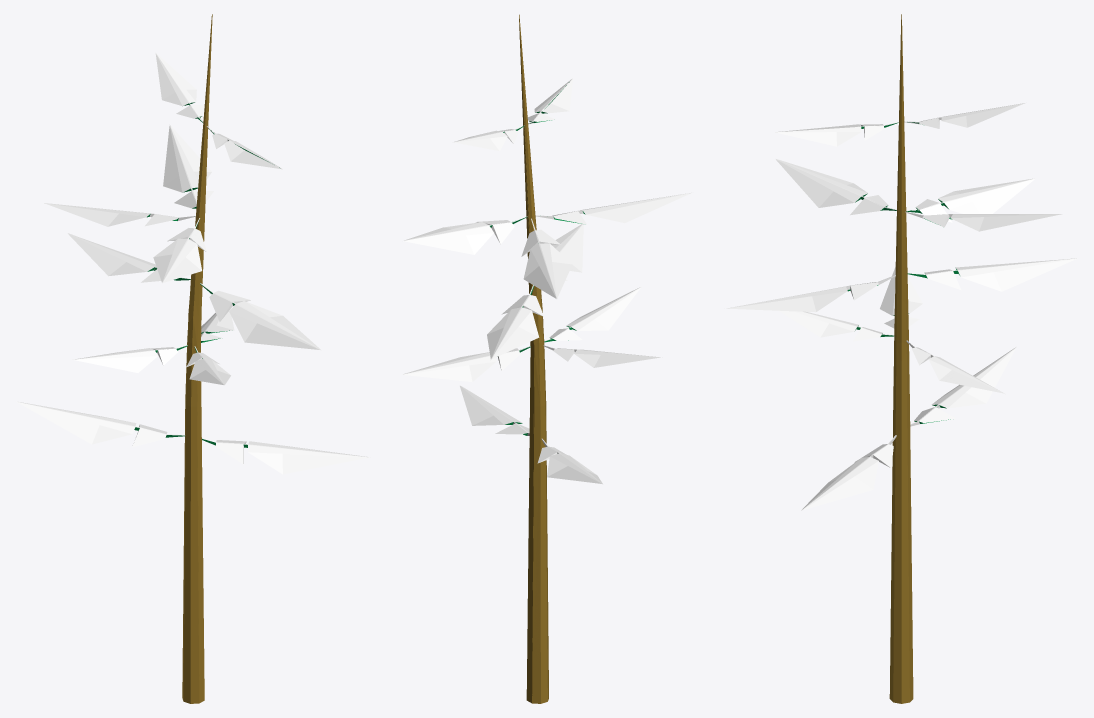
Rendered from V2_Fir_1_Snowy.fbx.
3 renders of one model, left to right at view 1: azimuth 30°, elevation 25°; view 2: azimuth 150°, elevation 25°; view 3: azimuth 270°, elevation 25°, orthographic. The views are drawn at different scales.
Visible parts, largest first — view 1: V2 Fir 1_LOD0_Snowy, V2 Fir 1_LOD3_Snowy, V2 Fir 1_LOD2_Snowy, V2 Fir 1_LOD1_Snowy; view 2: V2 Fir 1_LOD0_Snowy, V2 Fir 1_LOD3_Snowy, V2 Fir 1_LOD2_Snowy, V2 Fir 1_LOD1_Snowy; view 3: V2 Fir 1_LOD0_Snowy, V2 Fir 1_LOD2_Snowy, V2 Fir 1_LOD3_Snowy, V2 Fir 1_LOD1_Snowy.
Boxes of the visible parts, x1=… form: V2 Fir 1_LOD0_Snowy: x1=17, y1=14, x2=368, y2=703; V2 Fir 1_LOD3_Snowy: x1=16, y1=52, x2=370, y2=457; V2 Fir 1_LOD2_Snowy: x1=140, y1=102, x2=247, y2=703; V2 Fir 1_LOD1_Snowy: x1=150, y1=16, x2=277, y2=703; V2 Fir 1_LOD0_Snowy: x1=402, y1=14, x2=691, y2=703; V2 Fir 1_LOD3_Snowy: x1=402, y1=79, x2=690, y2=484; V2 Fir 1_LOD2_Snowy: x1=501, y1=111, x2=585, y2=703; V2 Fir 1_LOD1_Snowy: x1=477, y1=18, x2=691, y2=702; V2 Fir 1_LOD0_Snowy: x1=727, y1=14, x2=1076, y2=677; V2 Fir 1_LOD2_Snowy: x1=726, y1=104, x2=960, y2=703; V2 Fir 1_LOD3_Snowy: x1=728, y1=103, x2=1077, y2=510; V2 Fir 1_LOD1_Snowy: x1=848, y1=23, x2=1034, y2=443.
Bounding box in the file's own units: 298 × 769 × 358.
